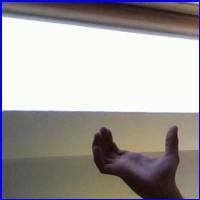space: (81, 121, 189, 195)
